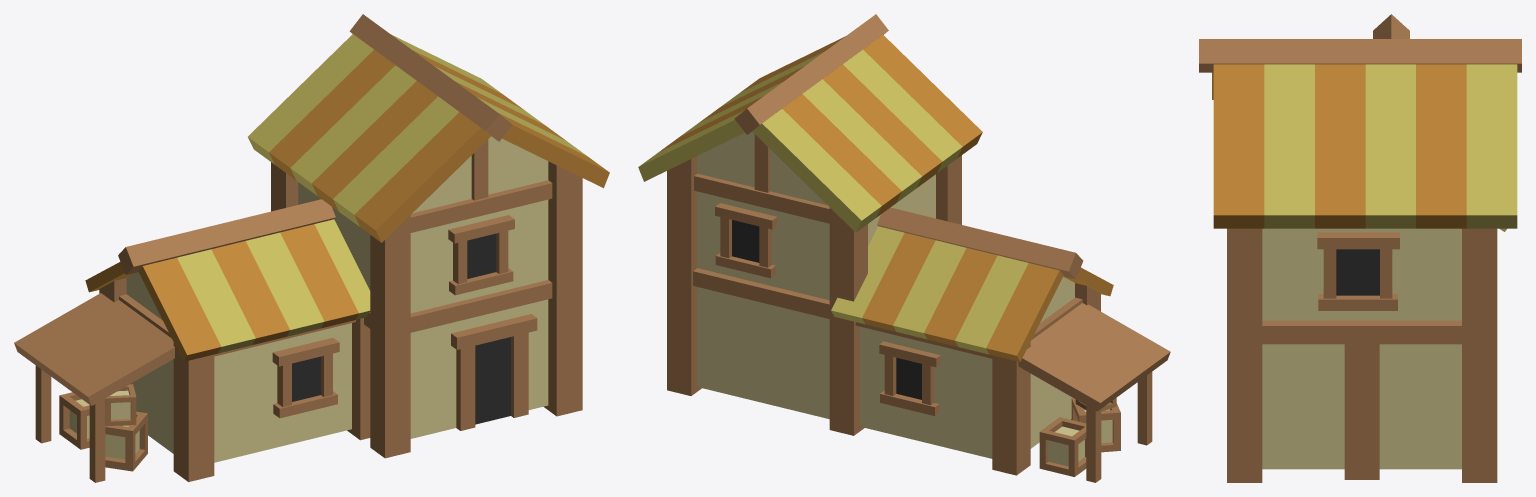
Rendered from PeasantHouseT2lv1.fbx.
3 renders of one model, left to right at view 1: azimuth 30°, elevation 25°; view 2: azimuth 150°, elevation 25°; view 3: azimuth 270°, elevation 25°, orthographic. The views are drawn at different scales.
Visible parts, largest first — view 1: Cube, Cube.157, Cube.164, Cube.008, Cube.003, Cube.002, Cube.001, Cube.166, Cube.159, Cube.081, Cube.082, Cube.160 (+18 smaller); view 2: Cube, Cube.157, Cube.165, Cube.008, Cube.007, Cube.162, Cube.166, Cube.004, Cube.159, Cube.086, Cube.161, Cube.011 (+12 smaller); view 3: Cube.157, Cube, Cube.007, Cube.002, Cube.159, Cube.084, Cube.167, Cube.200, Cube.197, Cube.196, Cube.198, Cube.199 (+1 smaller).
Boxes of the visible parts, x1,y1,x2,y2 form: Cube: (126, 136, 548, 462); Cube.157: (248, 34, 609, 242); Cube.164: (138, 219, 370, 361); Cube.008: (14, 293, 174, 405); Cube.003: (370, 215, 410, 458); Cube.002: (543, 161, 582, 416); Cube.001: (173, 342, 214, 481); Cube.166: (118, 199, 335, 274); Cube.159: (349, 14, 512, 141); Cube.081: (475, 337, 510, 424); Cube.082: (410, 280, 552, 332); Cube.160: (410, 180, 552, 232); Cube: (697, 132, 1074, 458); Cube.157: (638, 35, 982, 232); Cube.165: (831, 226, 1063, 361); Cube.008: (1018, 303, 1170, 411); Cube.007: (667, 156, 701, 395); Cube.162: (829, 207, 867, 435); Cube.166: (877, 207, 1083, 279); Cube.004: (992, 342, 1030, 475); Cube.159: (734, 14, 888, 134); Cube.086: (693, 268, 992, 358); Cube.161: (694, 173, 829, 223); Cube.011: (1039, 417, 1086, 476); Cube.157: (1212, 64, 1517, 228); Cube: (1262, 228, 1461, 469); Cube.007: (1462, 228, 1497, 482); Cube.002: (1227, 228, 1262, 482); Cube.159: (1199, 39, 1521, 72); Cube.084: (1262, 320, 1461, 344); Cube.167: (1344, 344, 1379, 479); Cube.200: (1336, 249, 1379, 295); Cube.197: (1317, 232, 1399, 249); Cube.196: (1318, 294, 1397, 310); Cube.198: (1323, 249, 1336, 298); Cube.199: (1380, 249, 1392, 298).
Size of the model in its own units: 1113 by 731 by 550.
